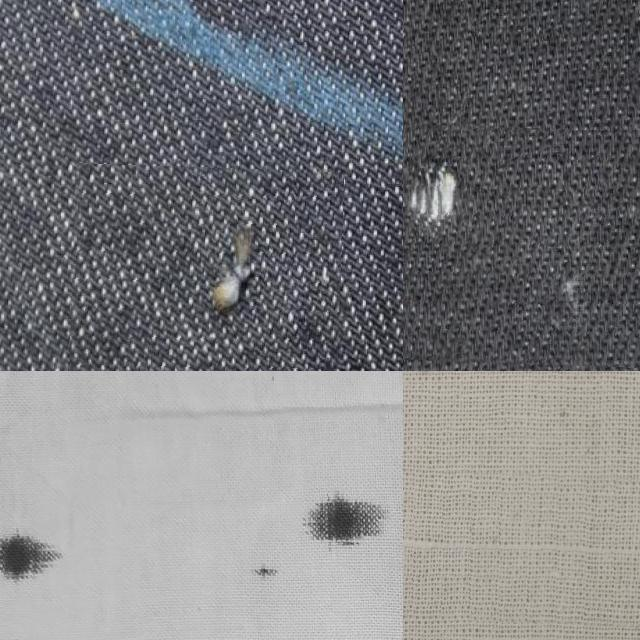Hole: (244, 485, 402, 594), (0, 492, 88, 618)
Thread_other: (403, 121, 640, 364), (70, 166, 342, 371), (403, 469, 640, 630)
